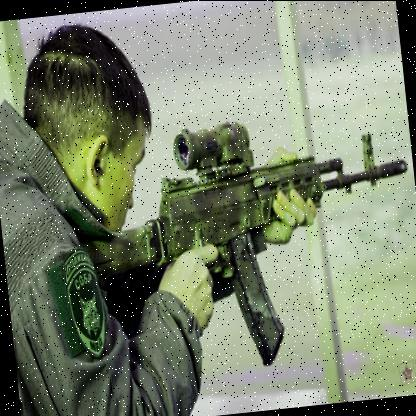rifle: (60, 102, 416, 385)
